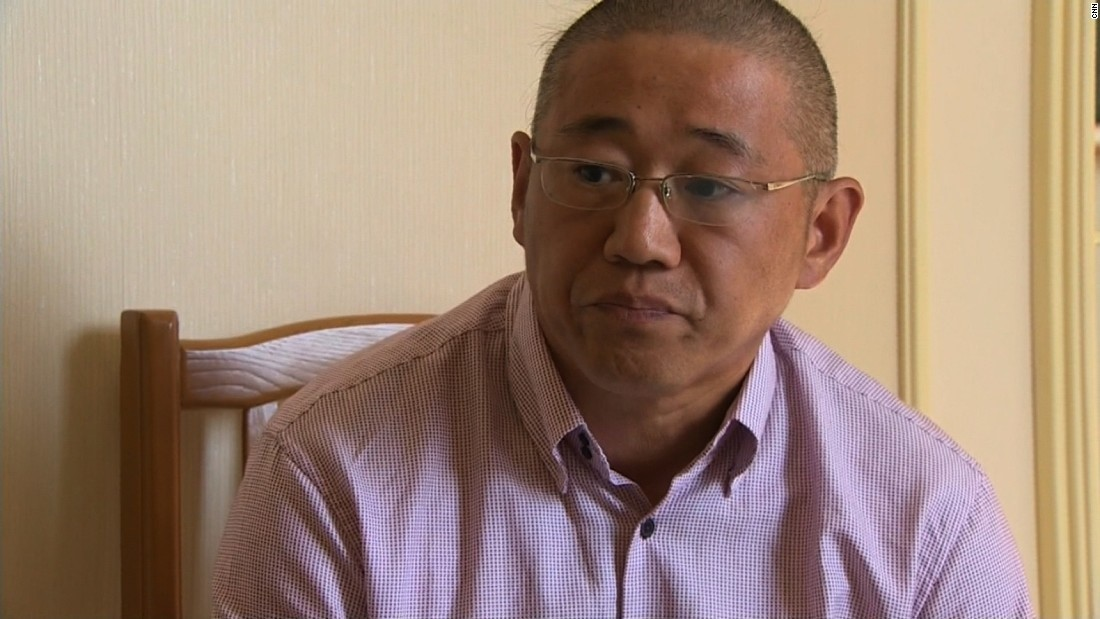face_no_mask: (508, 13, 820, 387)
